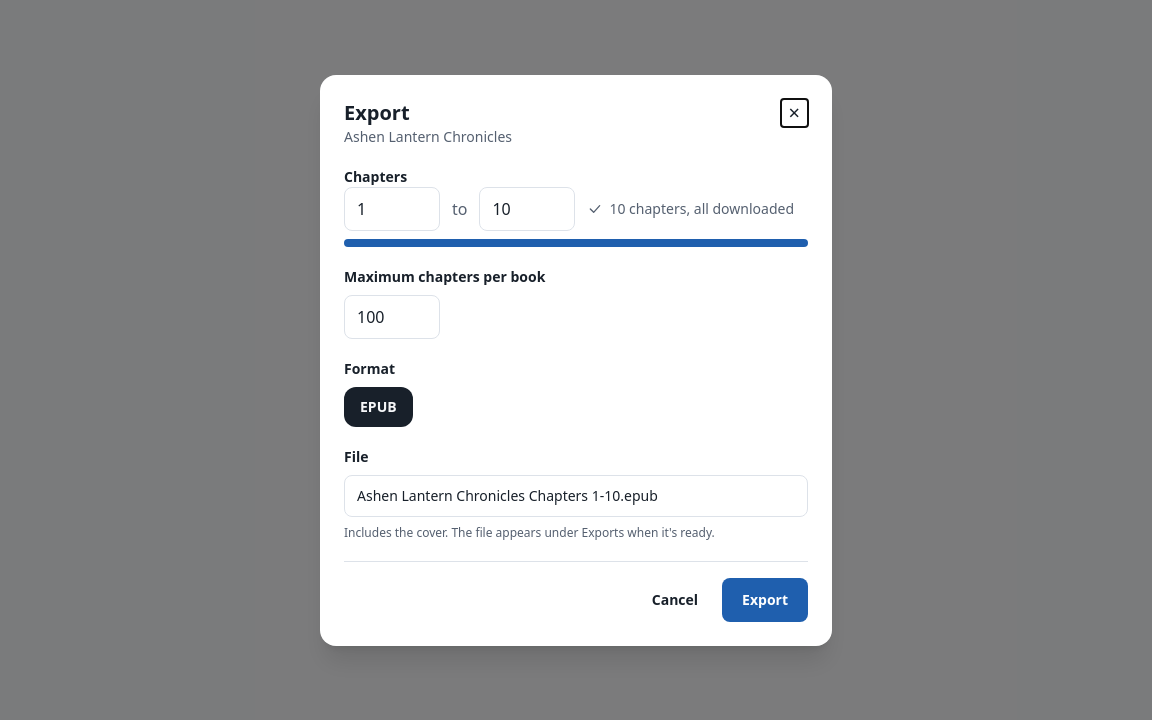
Test: ExportDialog › on an invalid range › From above To shows inline validation and disables the button
Clear the number field named "From": (392, 208) [344,186,440,230]
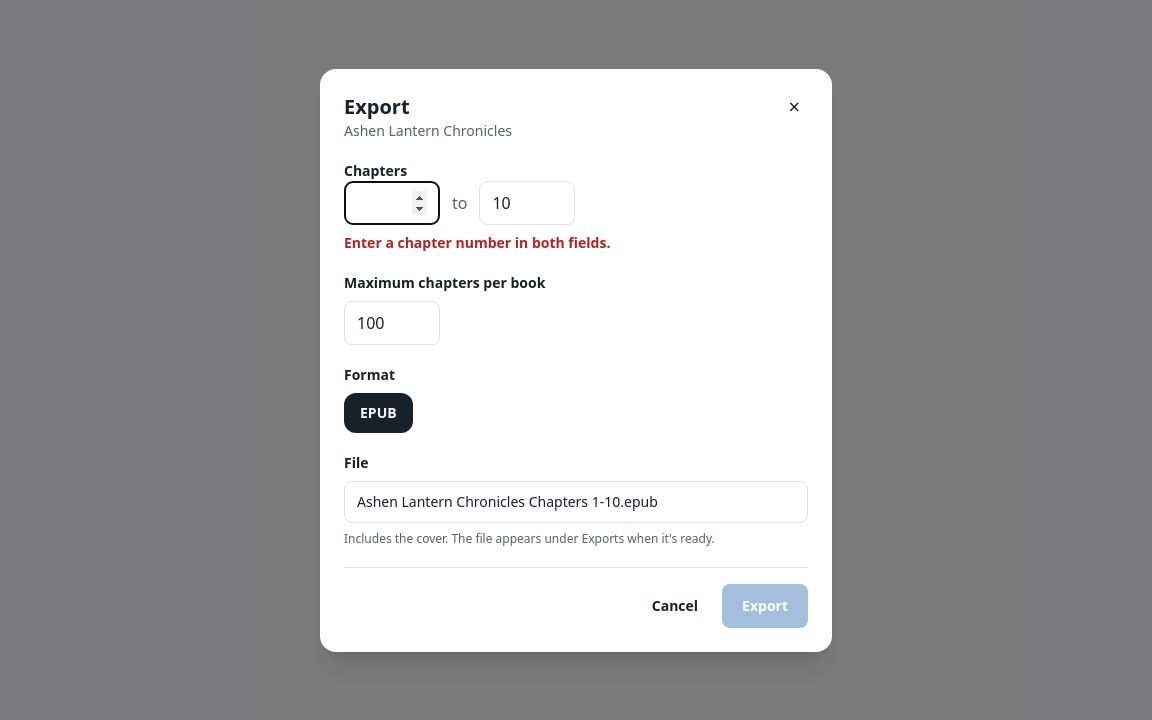
In the number field named "From": (392, 202) [344,180,440,224], type "8"
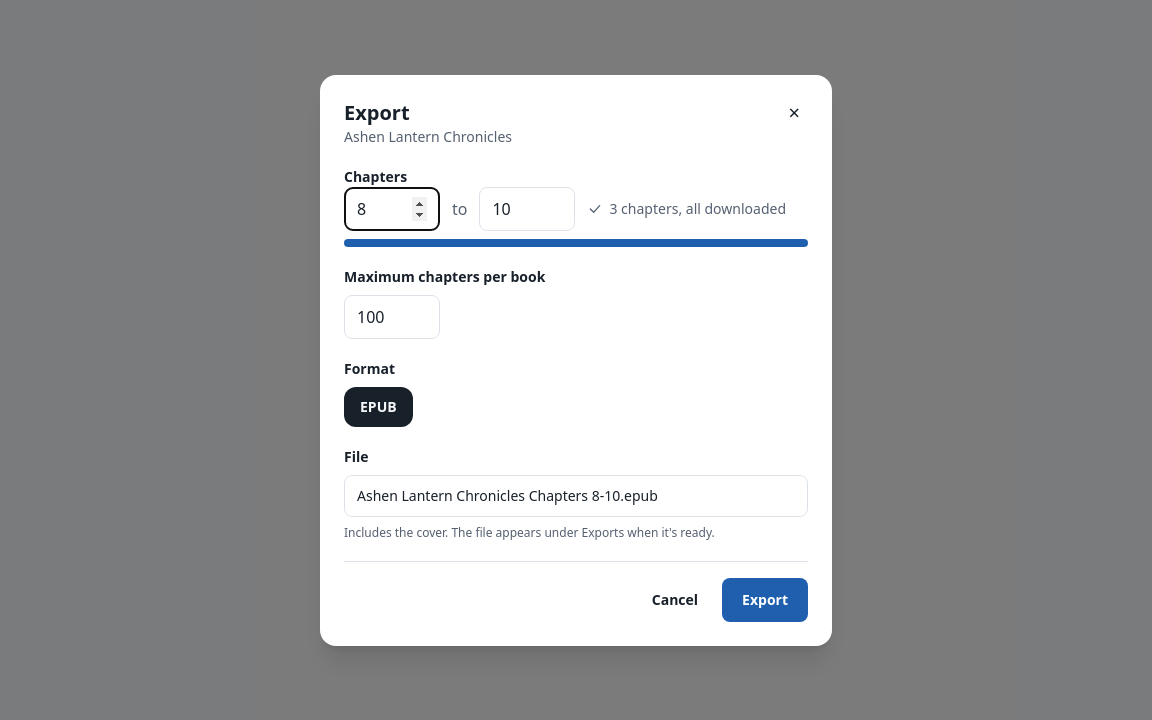
Clear the number field named "To": (528, 208) [480,186,576,230]
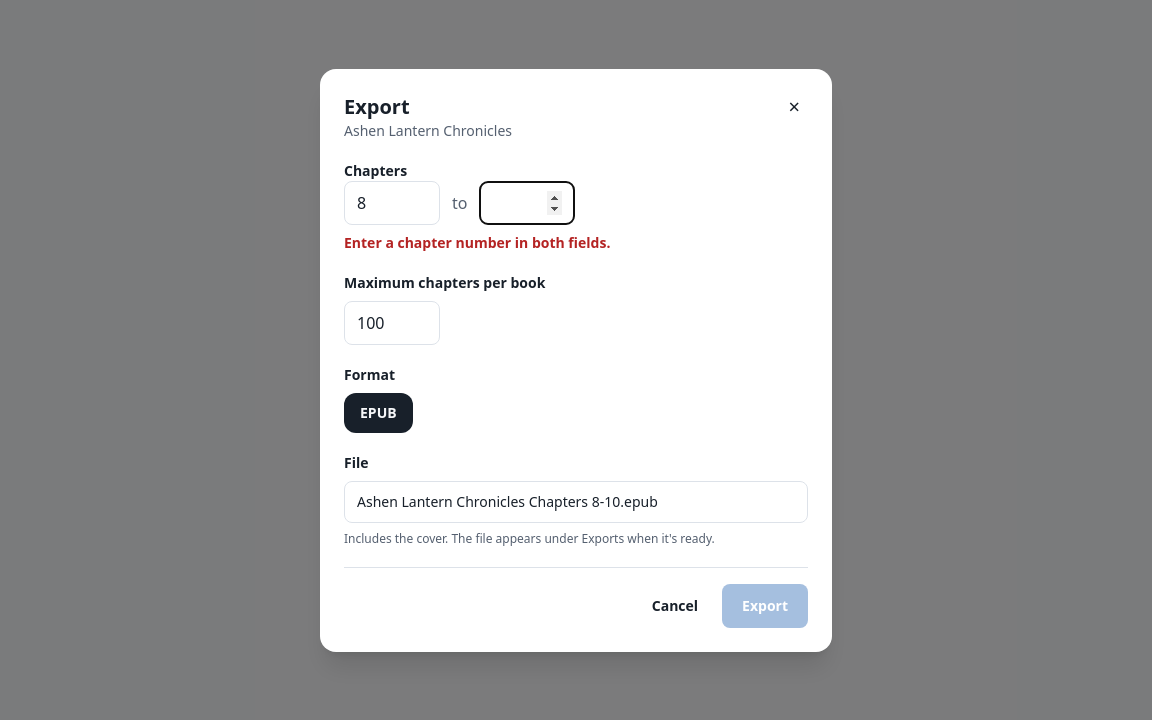
In the number field named "To": (528, 202) [480,180,576,224], type "3"
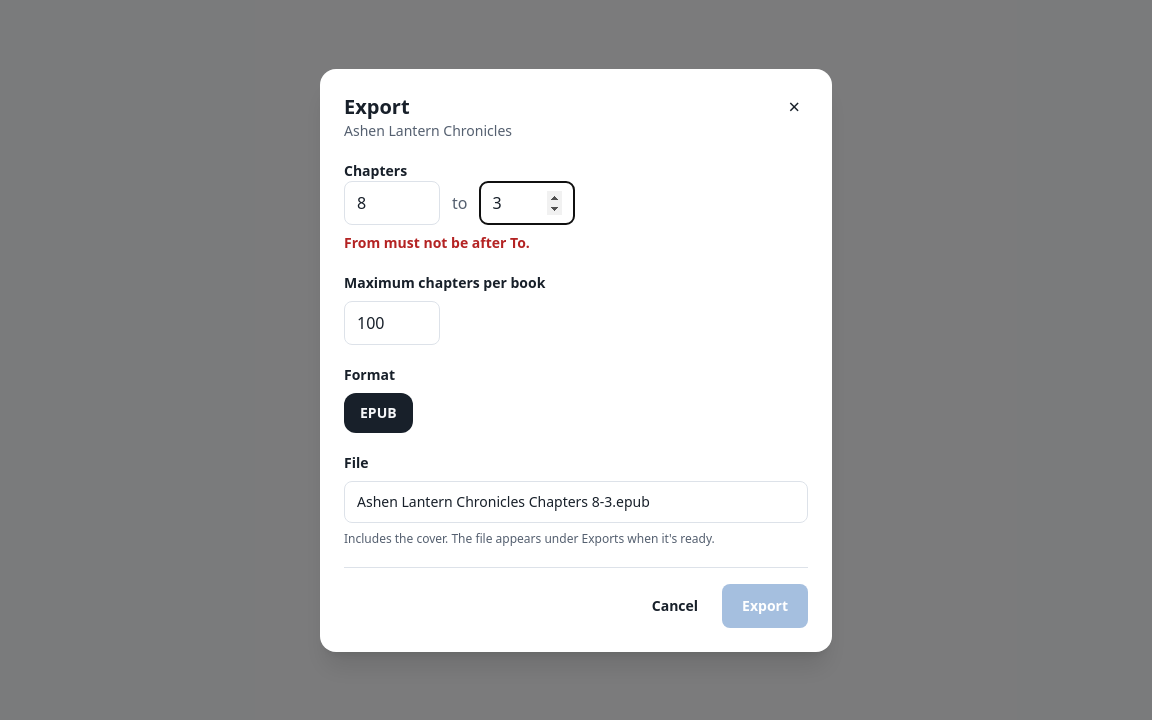
Expected: the button "Export" is disabled, [722,584,808,628]
Expected: the message reads "From must not be after To.", [344,232,530,252]
